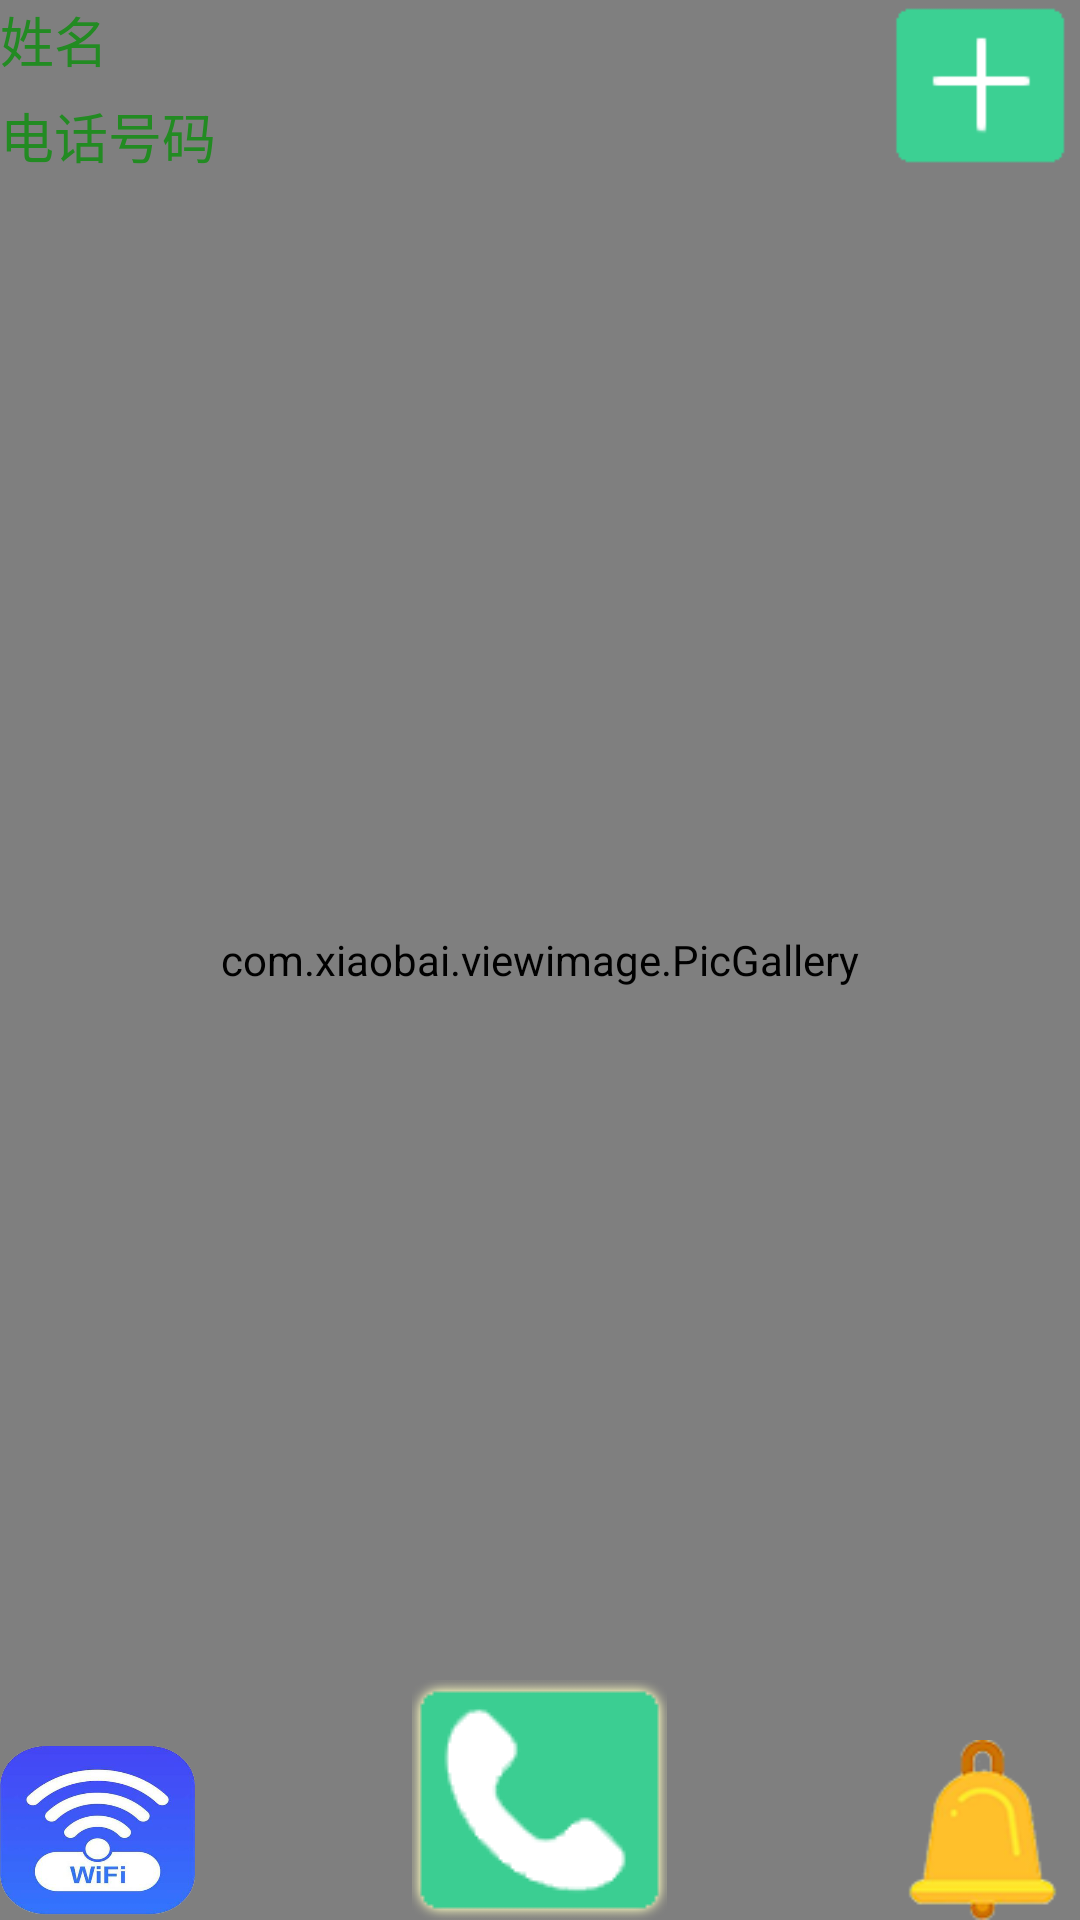

Icon click points for this 1080*1920 phone screenshot, format (x=x, y=y):
phonebtn: (x=539, y=1800)
